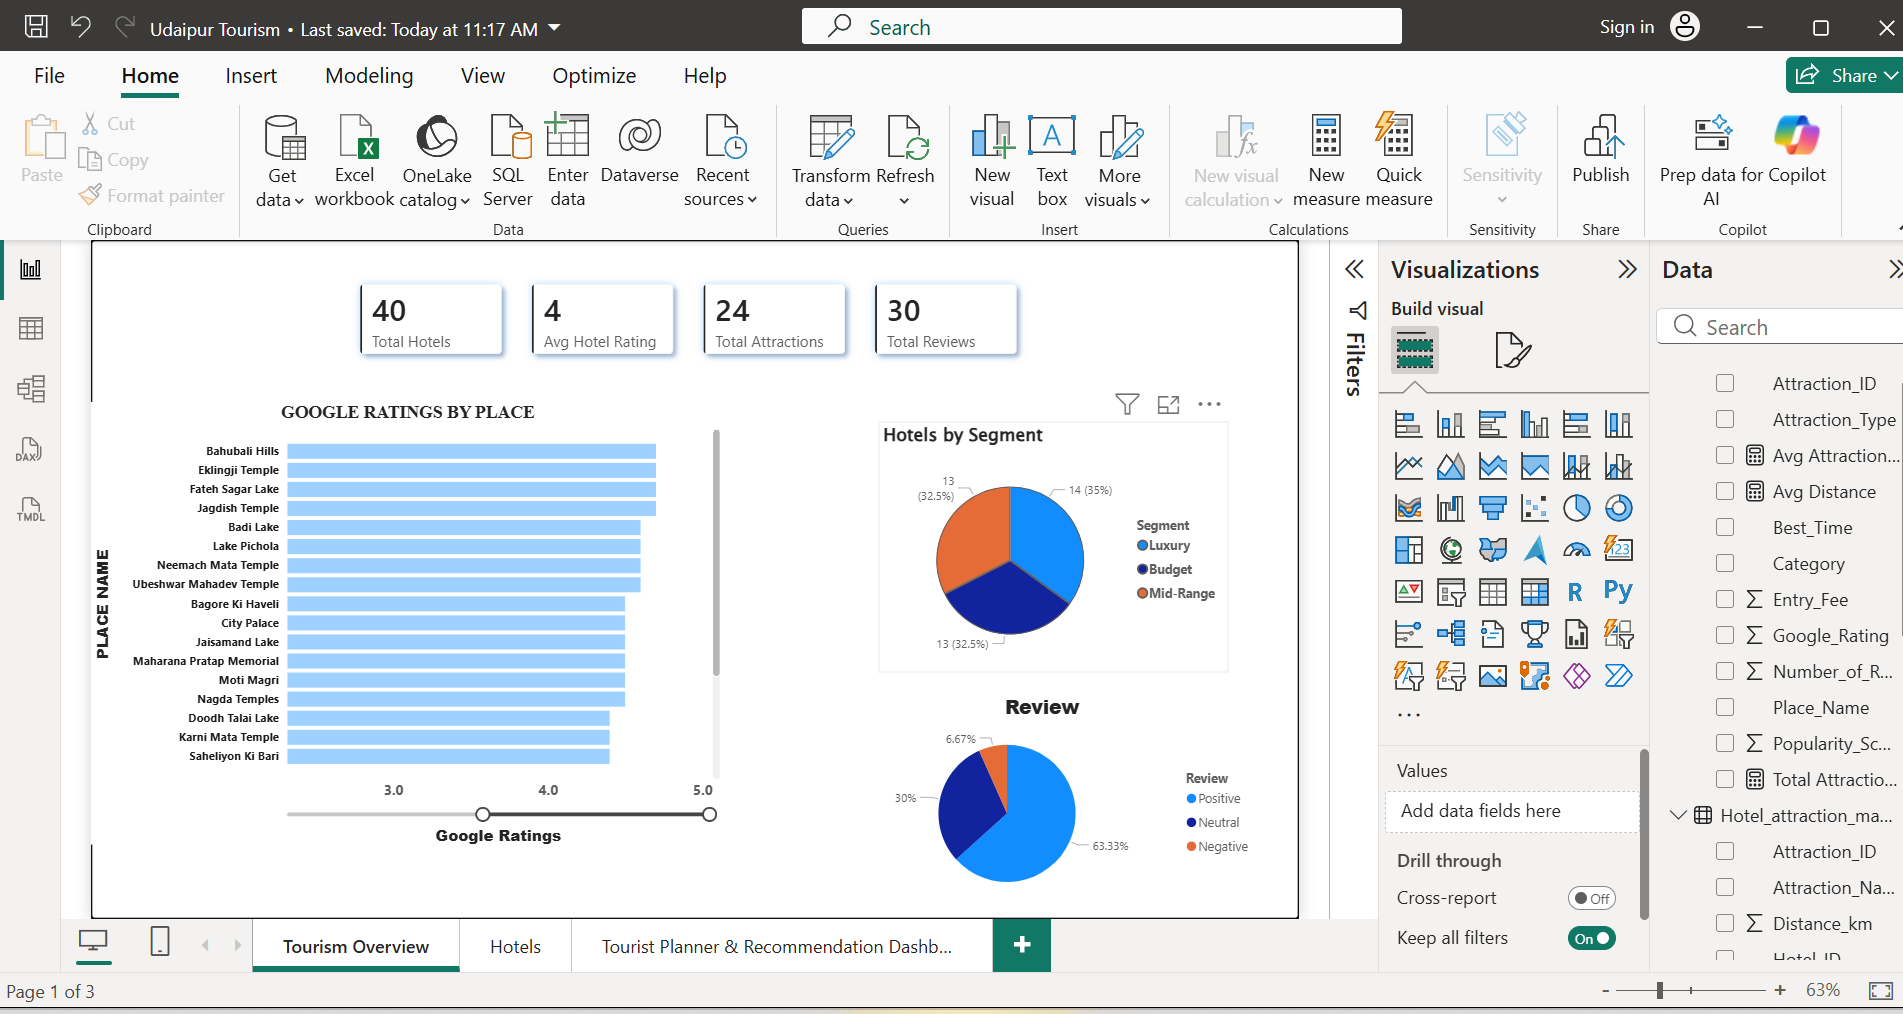

This screenshot's page, from the dashboard's own definition file:
{"tool":"powerbi","page":{"name":"Tourism Overview","canvas":[1280,720],"ordinal":0},"visuals":[{"type":"cardVisual","fields":{"Data":["Hotels.Total Hotels","Hotels.Total Attractions","Hotels.Total Attractions1","Hotels.Total Reviews"]},"box":[255.8,17.8,756.2,132.8],"z":0},{"type":"donutChart","title":"Hotels by Segment","fields":{"Category":["Hotels.Segment"],"Y":["CountNonNull(Hotels.Hotel_ID)"]},"box":[835.5,192.7,370.8,265.6],"z":1000},{"type":"barChart","title":"GOOGLE RATINGS BY PLACE","fields":{"Category":["Attractions.Place_Name"],"Y":["Sum(Attractions.Google_Rating)"]},"box":[0,171.6,672,469.6],"z":2000},{"type":"pieChart","title":"Review","fields":{"Category":["Reviews.sentiment"],"Y":["CountNonNull(Reviews.review_id)"]},"box":[775.6,480.9,464.7,226.7],"z":3000}]}

Visuals, with their boxes on the page's 1280x720 design canvas (x1, y1, x2, y2). These are canvas units, not pixel positions in the 1903x1014 screenshot, which may show the page scaled, cropped or inside an application window:
cardVisual - Hotels.Total Hotels x Hotels.Total Attractions: bbox=(256, 18, 1012, 151)
"Hotels by Segment" donutChart: bbox=(836, 193, 1206, 458)
"GOOGLE RATINGS BY PLACE" barChart: bbox=(0, 172, 672, 641)
"Review" pieChart: bbox=(776, 481, 1240, 708)
